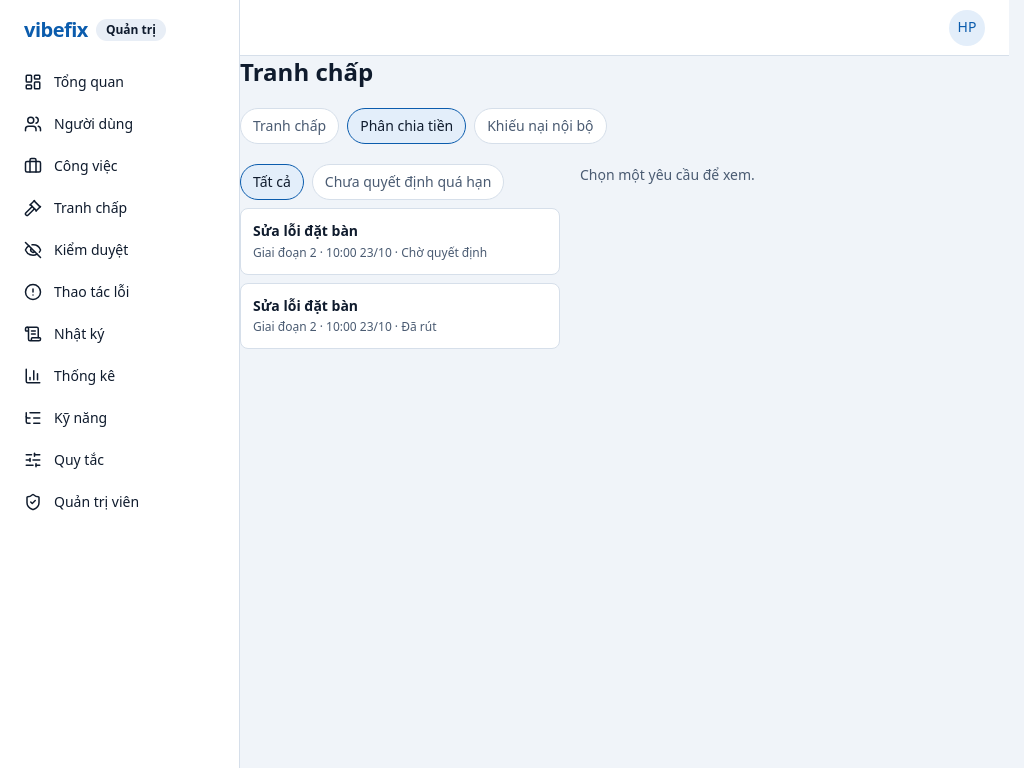
Test case: ADM-4 "Phân chia tiền" (FR-84, AD-40, UX-DR107) › filters by the server, showing the flag it set from the stored due time
Expected: the text "Giai đoạn 2 · 10:00 23/10 · Đã rút" is shown, [253,318,436,335]
Click the button "Chưa quyết định quá hạn": (408, 182) [312,164,504,200]
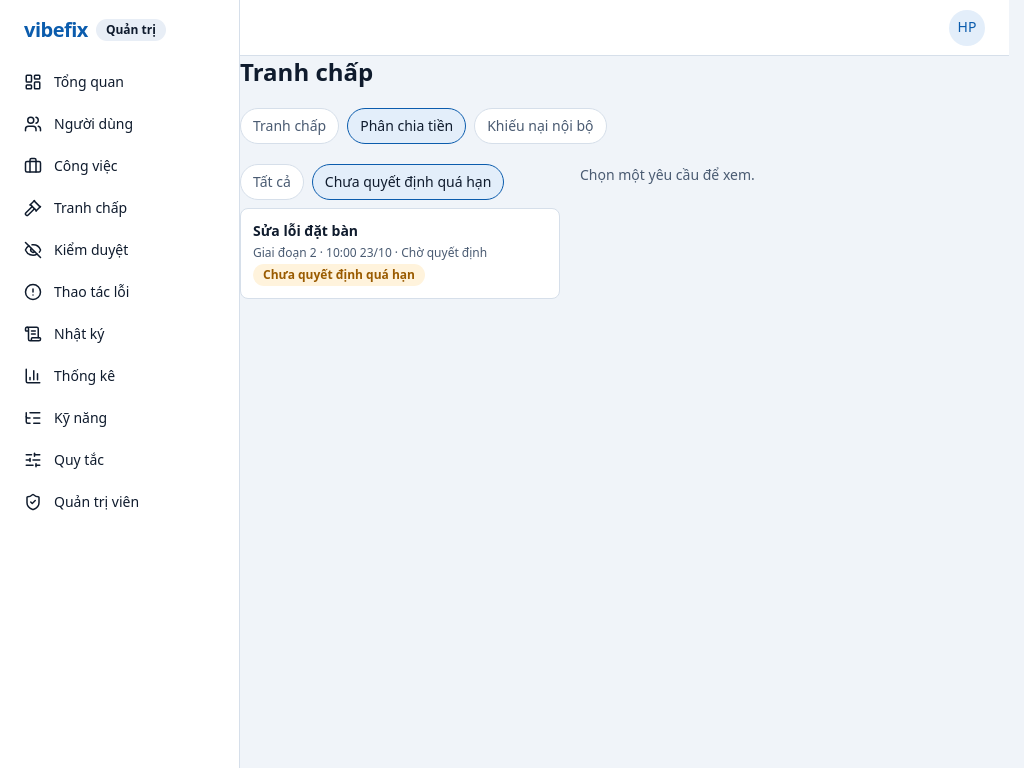
Expected: the text "Chưa quyết định quá hạn" is shown, [253,264,425,286]
Expected: the link "Đã rút" is gone
